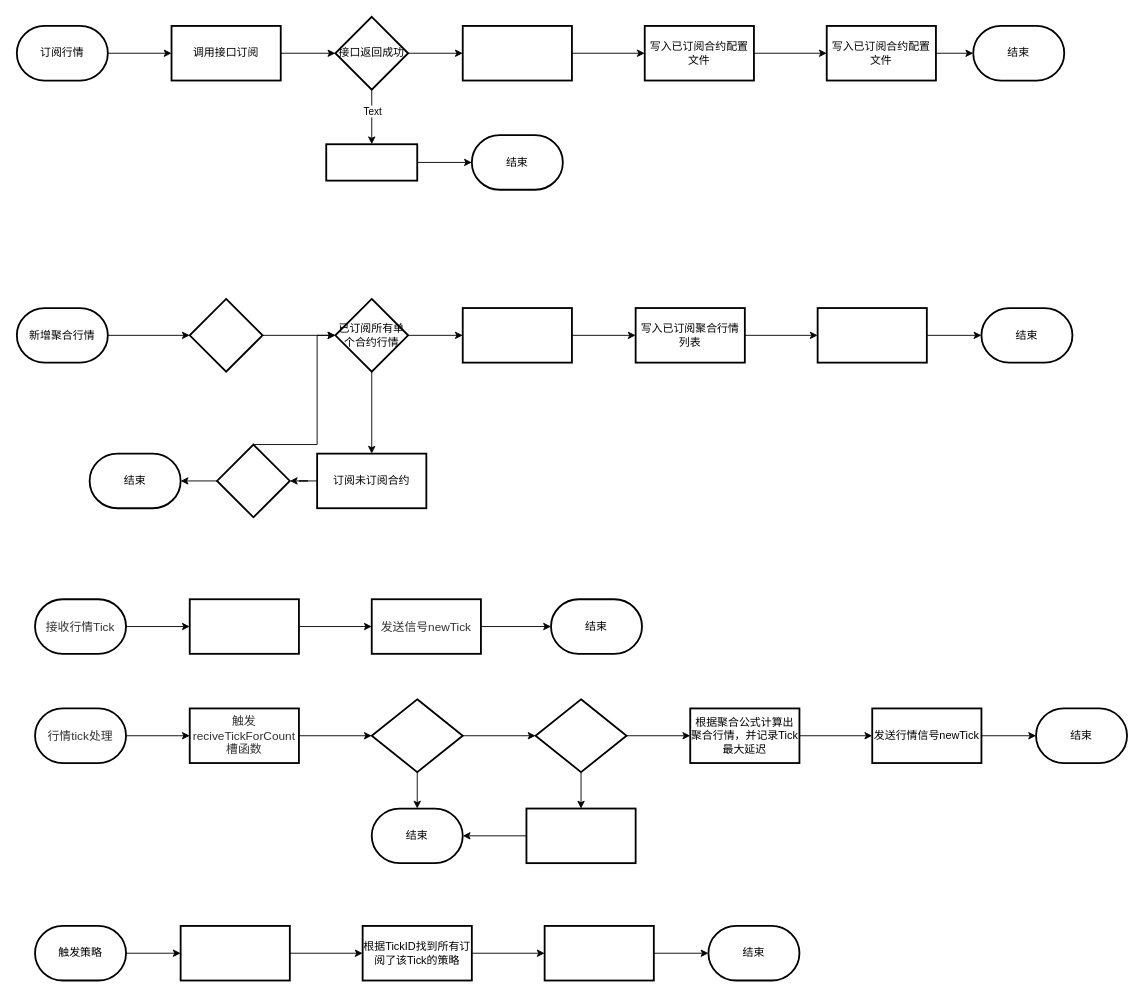
Some shapes in this 1143 by 996 pixel diagram are drawn without their labels. The centre of each missing label's shape, as x and y in pixels:
"从线程池中获取线程执行策略" belongs at (598,953).
"写入已订阅聚合行情配置文件" belongs at (871,335).
"参数是否正确" belongs at (225,335).
"接收交易所行情数据，处理成统一数据格式" belongs at (243,626).
"更新已订阅合约列表" belongs at (516,53).
"有相关联已订阅的聚合数据？" belongs at (416,735).
"生成聚合行情ID， ID：网关1-合约1_网关2-合约2...." belongs at (516,335).
"聚合数据相关合约已有数据？" belongs at (580,735).
"触发reciveTickForStrategy" belongs at (234,953).
"订阅成功" belongs at (253,480).
"记录告警日志" belongs at (580,835).
"错误提示" belongs at (371,162).
